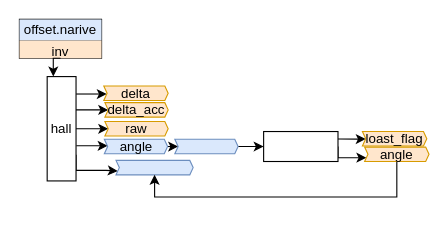
This 448x225 diagram has some shape labels left out. The shapes that lost their labels are listed below. From the top down, each one's centre as x and y in pixels, then its label:
At (x=206, y=146): "pactual".
At (x=300, y=146): "hall_extra".
At (x=154, y=167): "extra_angle".
